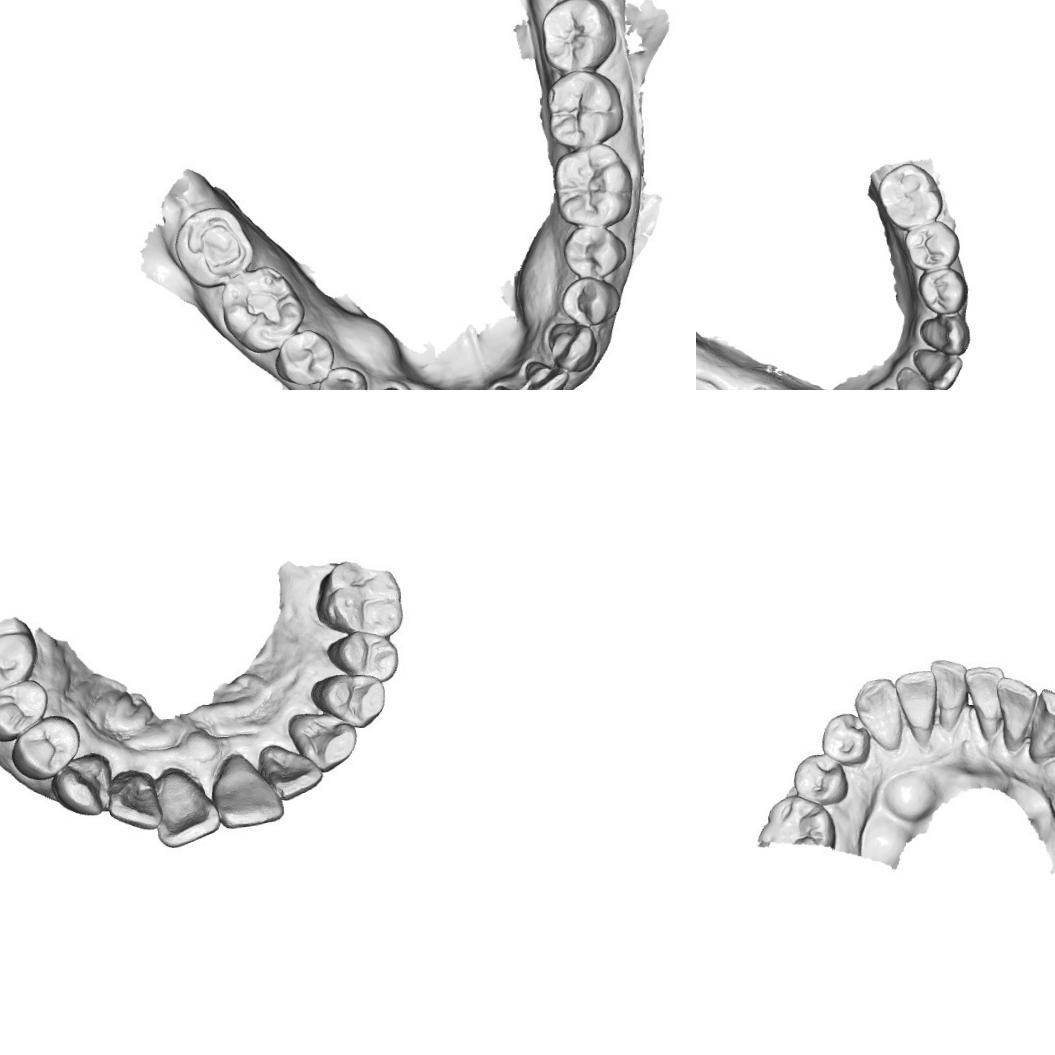canine: (283, 709, 359, 776), (50, 752, 115, 821), (850, 673, 904, 754), (546, 315, 600, 371), (920, 304, 974, 352), (1024, 684, 1055, 760)
incisor: (154, 764, 218, 849), (213, 752, 283, 826), (990, 672, 1042, 744), (264, 742, 322, 798), (892, 667, 939, 733), (960, 662, 1010, 724), (110, 768, 158, 827), (927, 655, 968, 717), (916, 342, 963, 390), (896, 364, 946, 390), (526, 358, 566, 390)
molar: (322, 556, 406, 642), (216, 265, 297, 353), (545, 68, 626, 152), (553, 144, 632, 223), (175, 204, 252, 285), (540, 0, 614, 72), (877, 159, 945, 234), (754, 792, 841, 850), (0, 619, 36, 705)
premolar: (3, 712, 86, 784), (306, 668, 390, 730), (322, 627, 398, 686), (562, 220, 630, 280), (278, 330, 348, 386), (789, 748, 850, 808), (0, 676, 50, 745), (904, 216, 960, 272), (819, 710, 873, 767), (558, 274, 616, 325), (915, 263, 968, 316), (316, 370, 369, 390)
